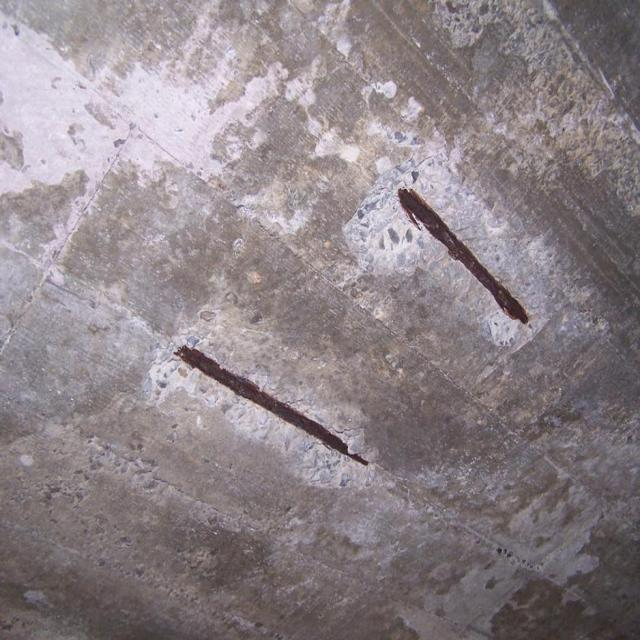Rebar: (341, 152, 549, 355), (146, 319, 376, 493)
